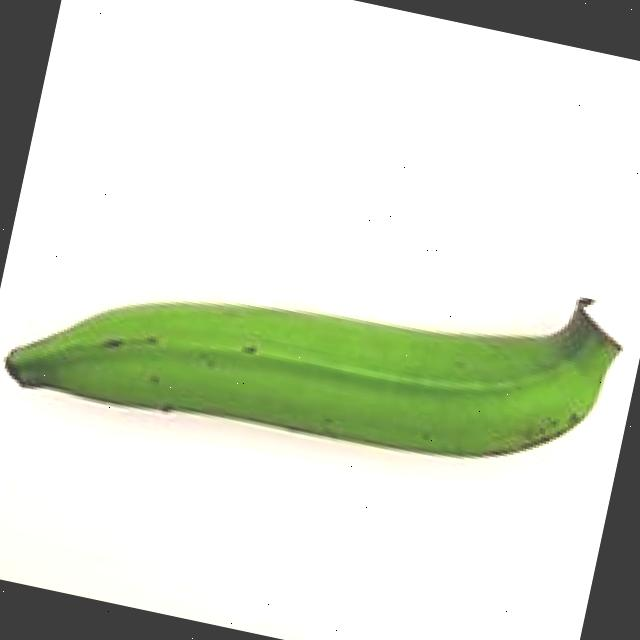Raw: (0, 138, 640, 566)
